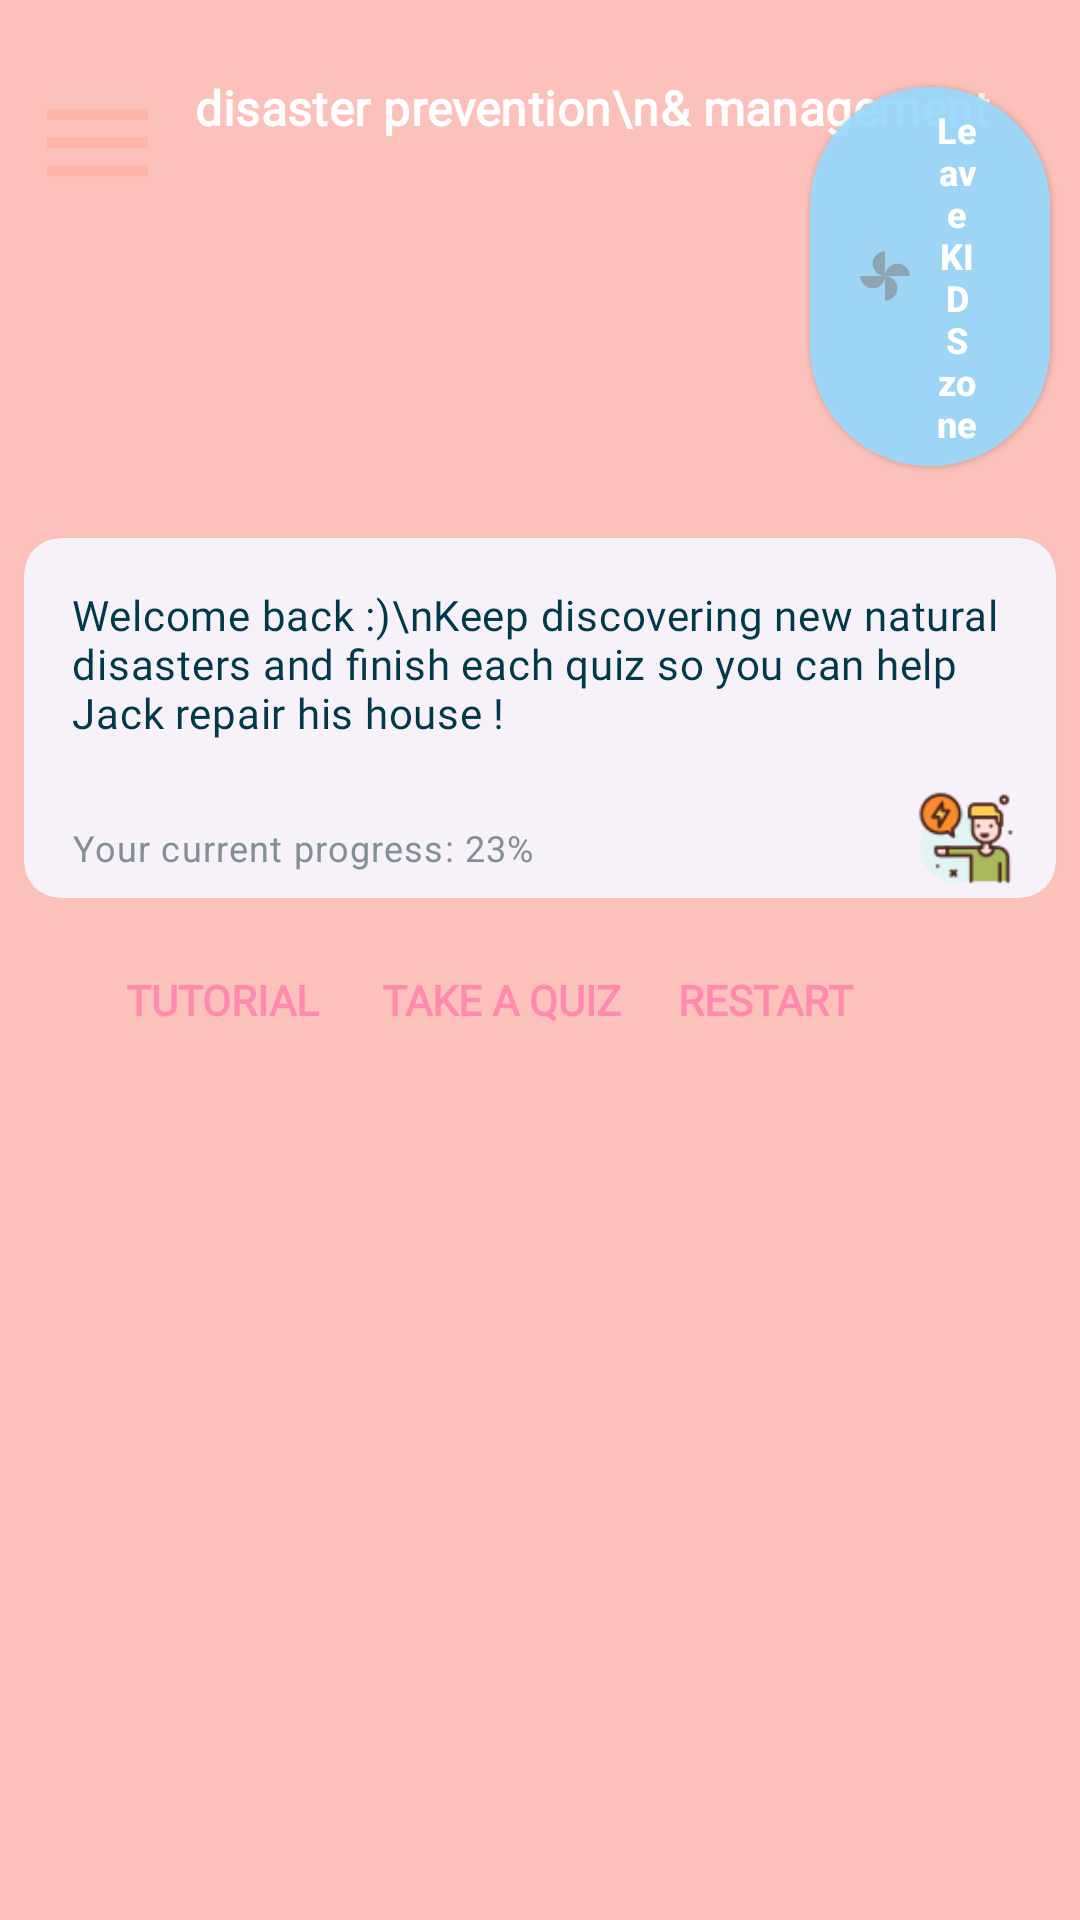

Point at icon controls on the screen. Image size 1080x1920, points as point (x, y).
thunder kids: point (966, 838)
